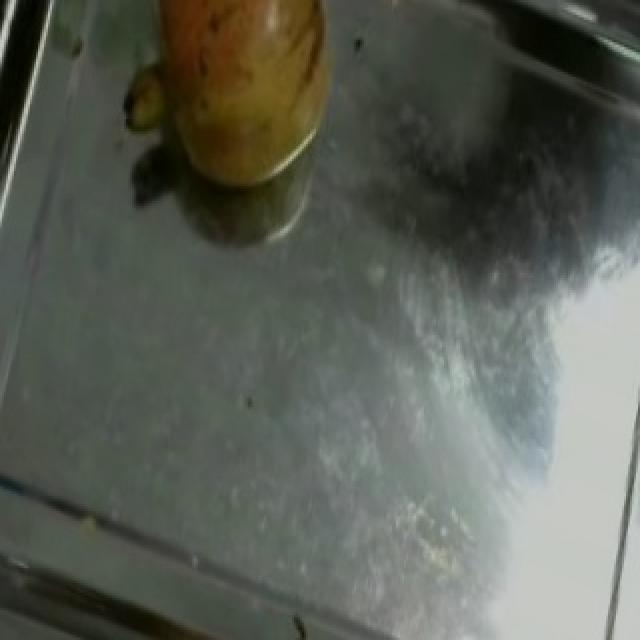fruit: (144, 0, 374, 213)
